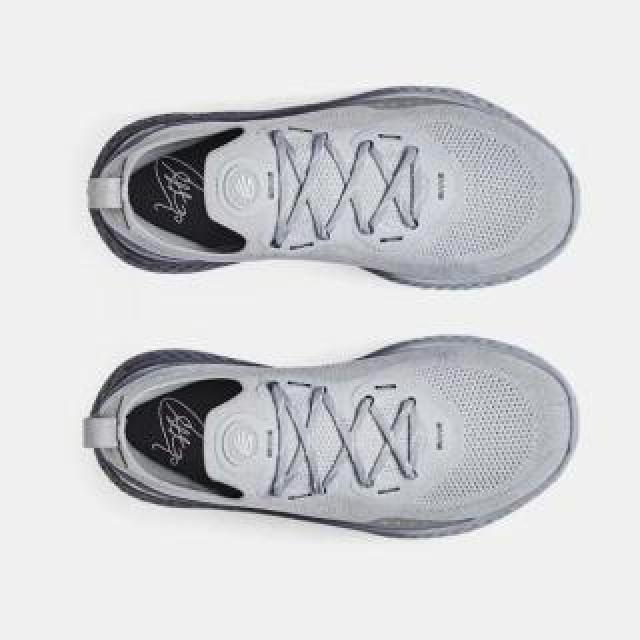shoe: (84, 82, 584, 290), (83, 331, 577, 537)
